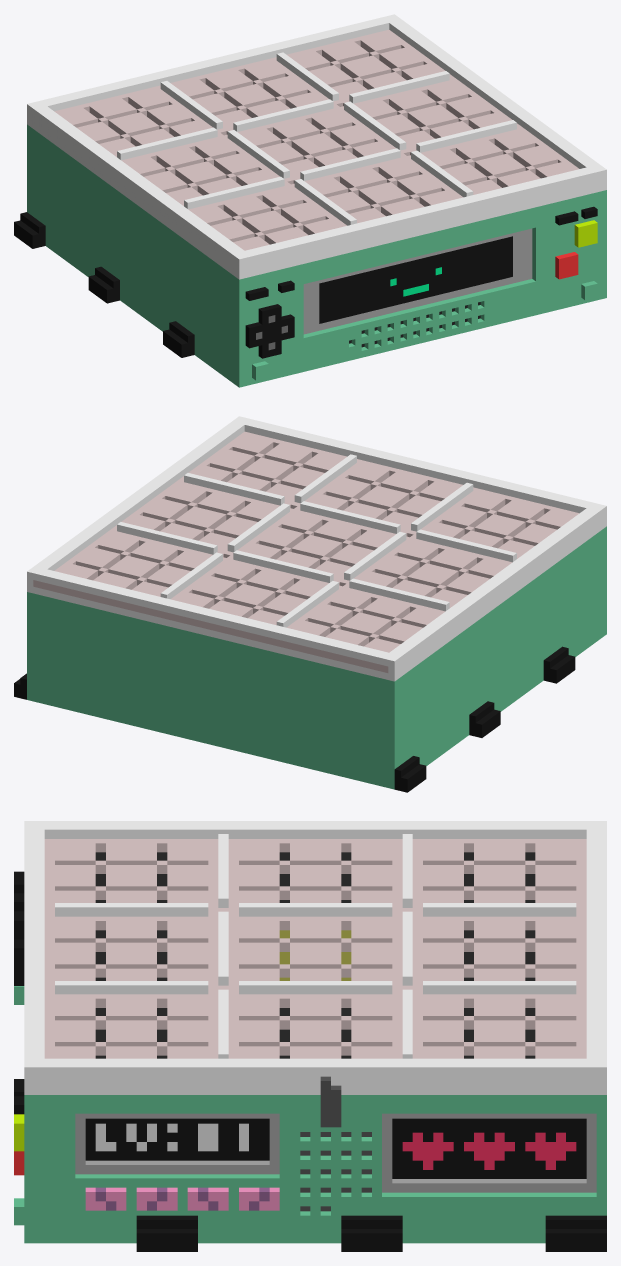
Rendered from CHIP(mint).obj.
3 renders of one model, top to bottom at view 1: azimuth 30°, elevation 25°; view 2: azimuth 150°, elevation 25°; view 3: azimuth 270°, elevation 25°, orthographic. The views are drawn at different scales.
Size of the model in its own units: 6.1 by 1.9 by 5.8.
1 material, 1 textured.
